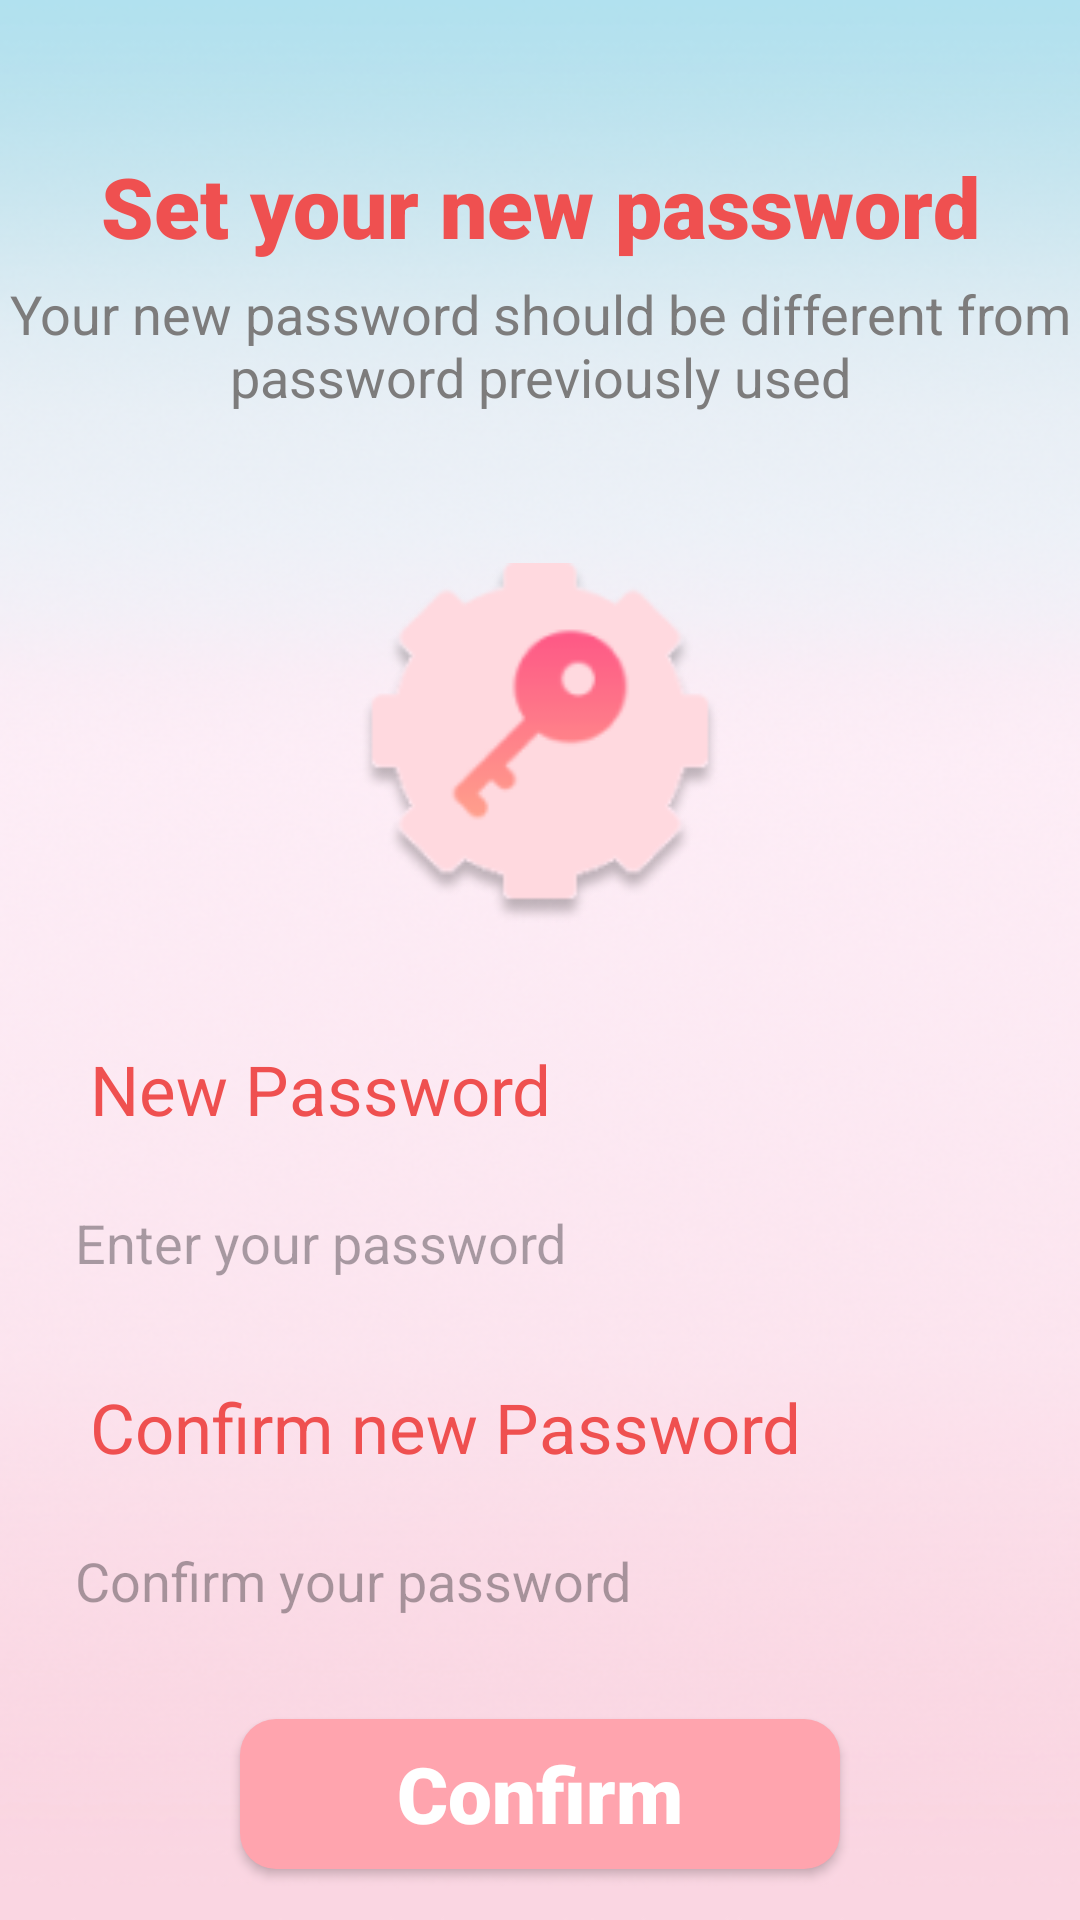

Icon bounding boxes for this 1080*1920 phone screenshot, format (x1, y1, x2, y2):
key: (360, 563, 720, 918)
